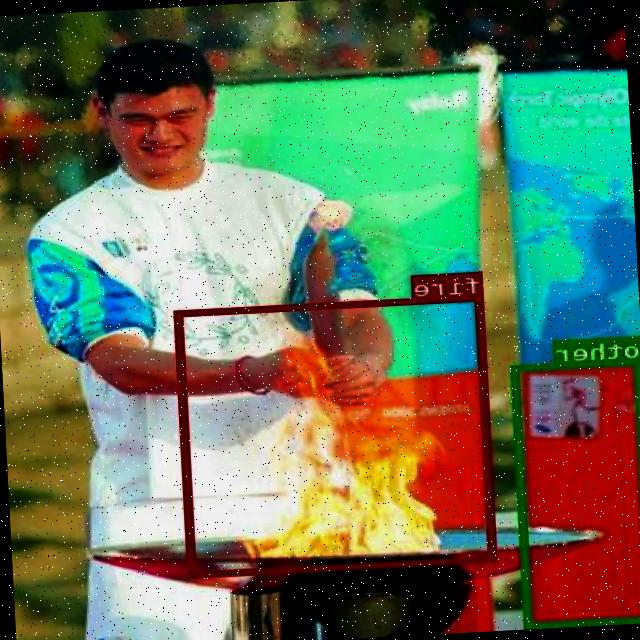fire: (176, 294, 498, 578)
